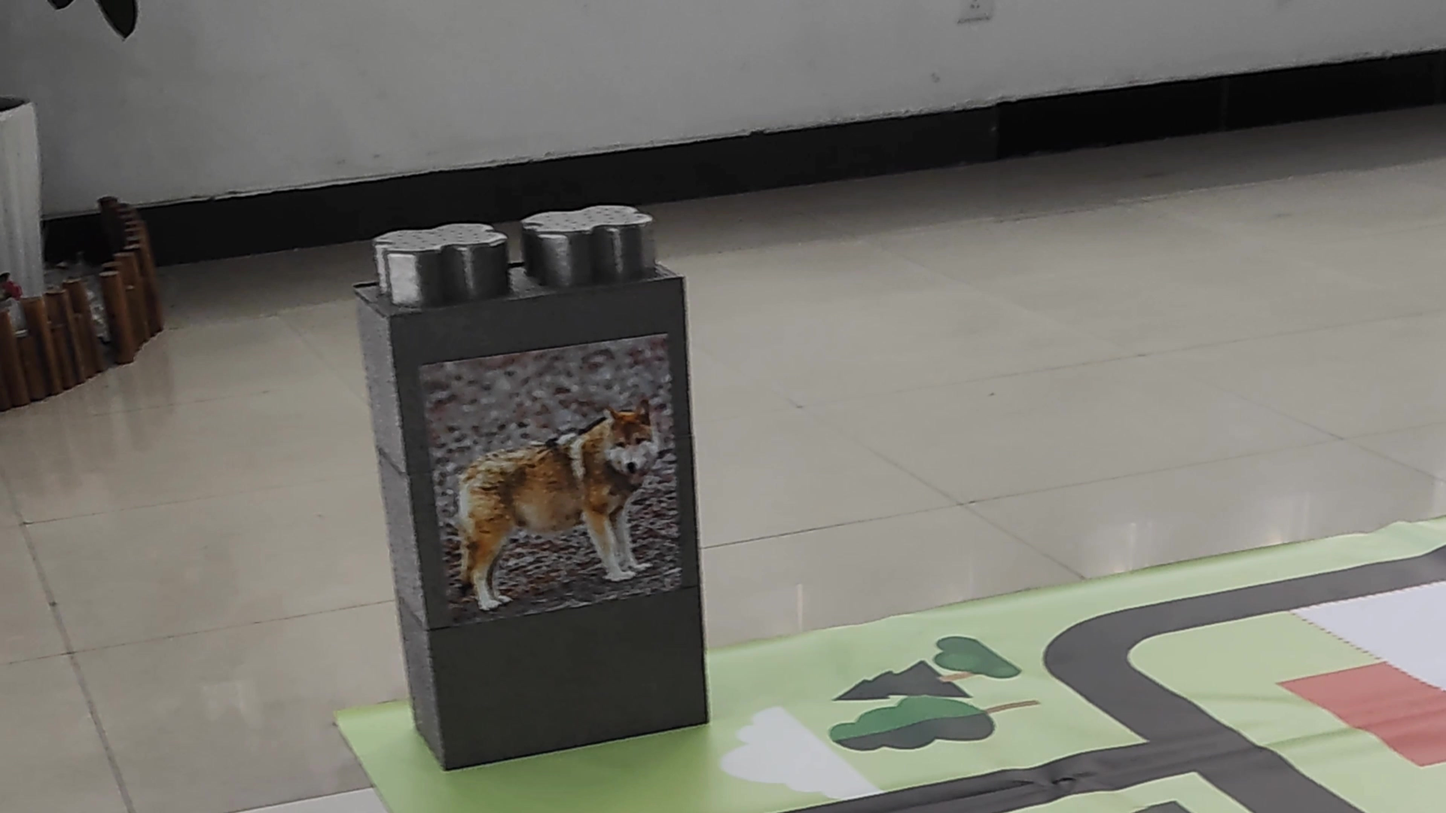wolf: (436, 396, 688, 607)
